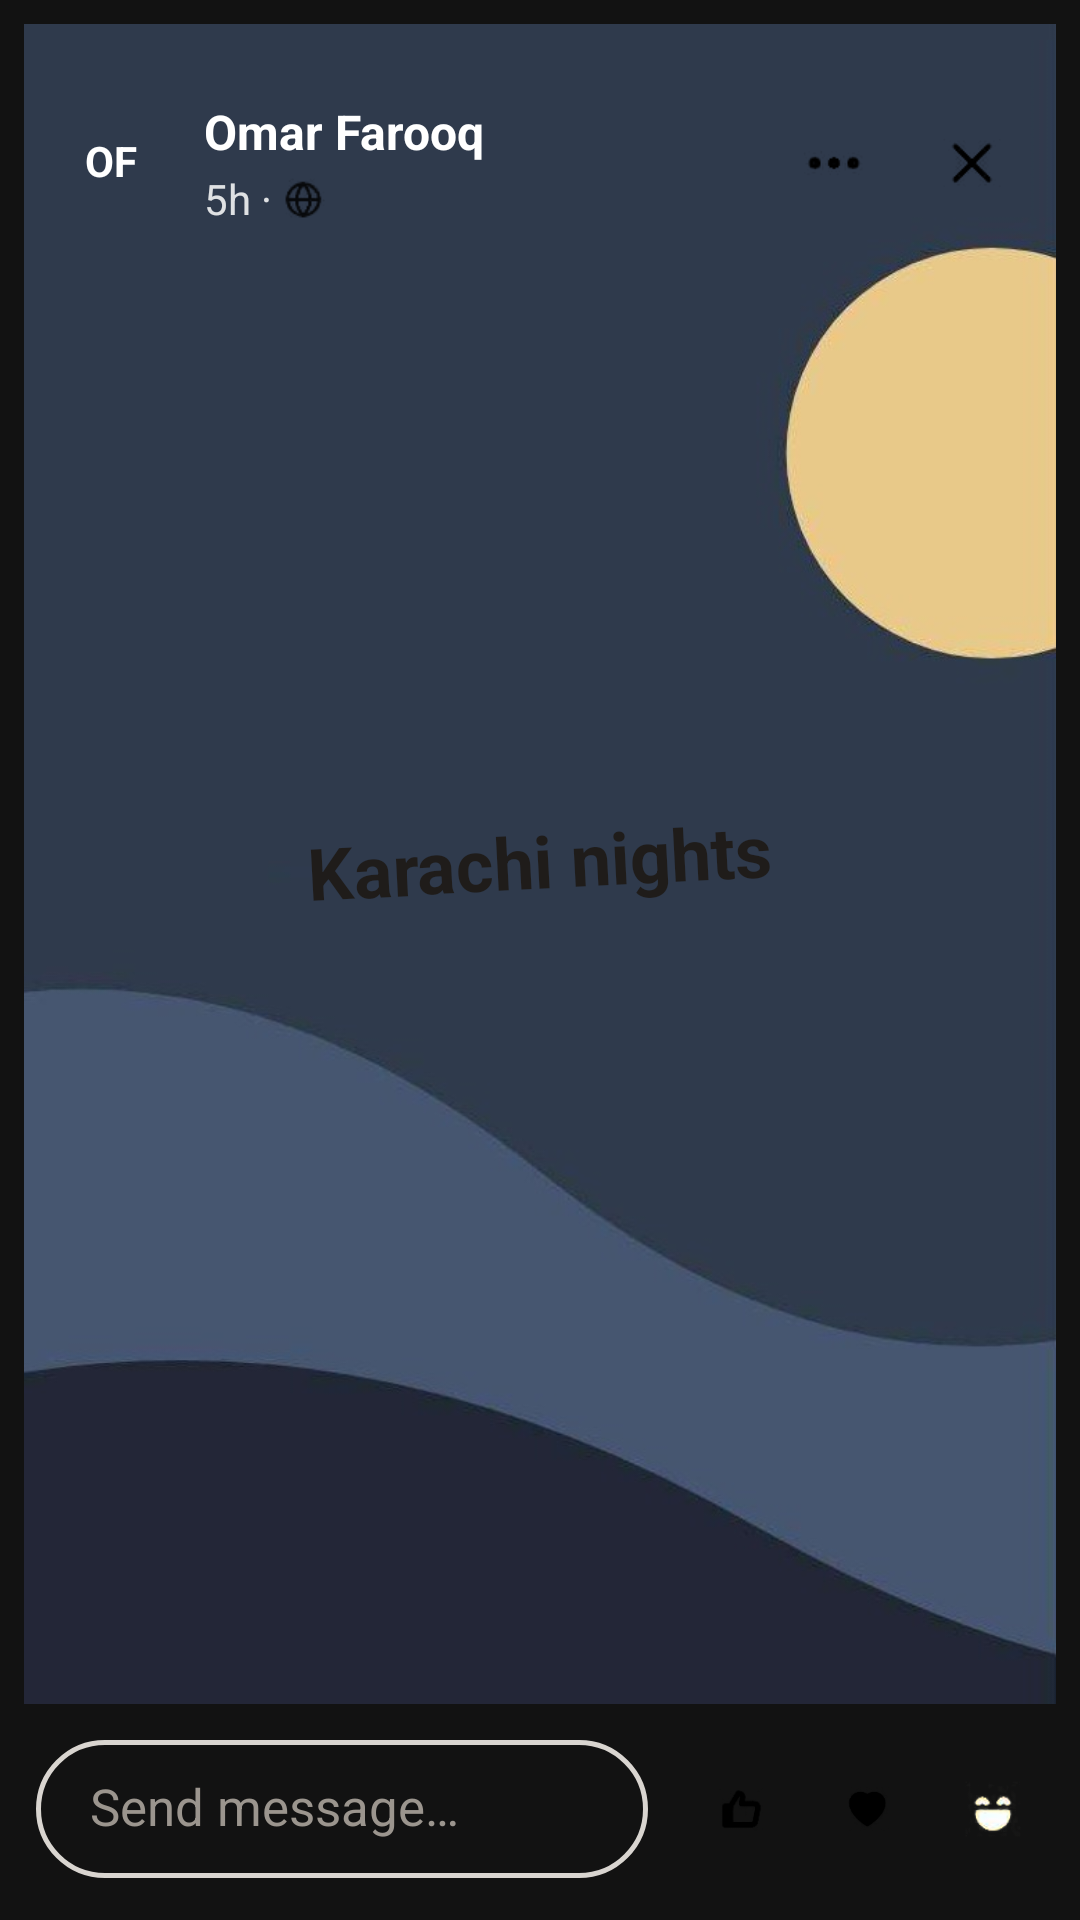

Screen size 1080*1920. Icon name, then its box in pixels as {"left": x1, "top": y1, "right": x2, "bottom": y2}:
Close story: {"left": 953, "top": 144, "right": 991, "bottom": 183}
globe: {"left": 285, "top": 182, "right": 321, "bottom": 218}
Haha: {"left": 974, "top": 1796, "right": 1012, "bottom": 1831}
more: {"left": 809, "top": 157, "right": 859, "bottom": 169}
